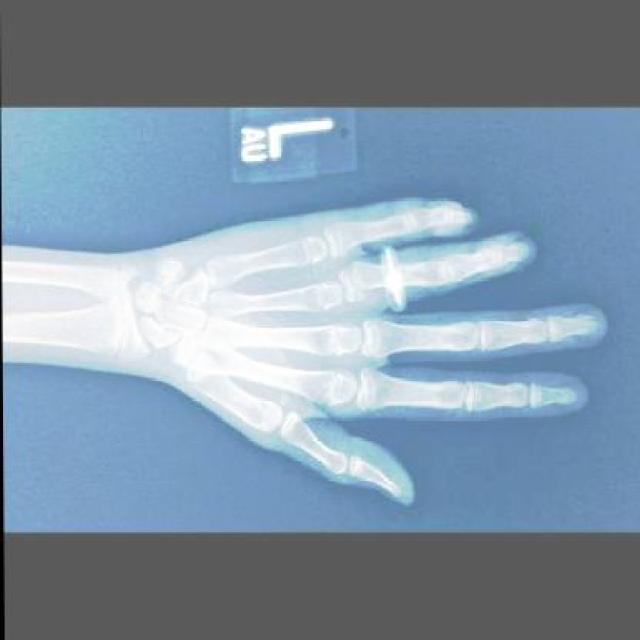Fracture: (340, 260, 378, 306)
